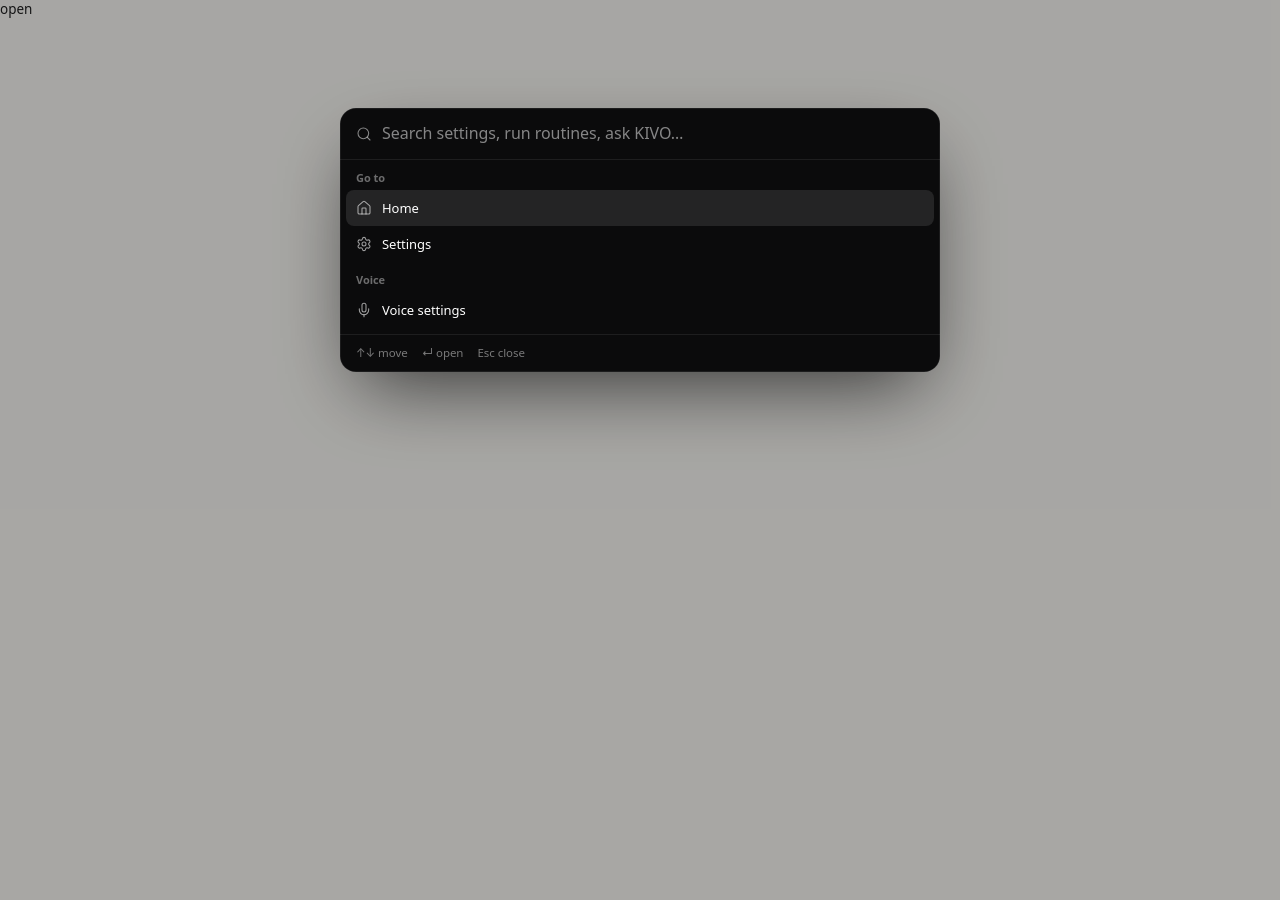
Test: CommandPalette › filters by label and shows each group header once
Step 1. Type "settings" into the dropdown → (653, 134), box [382, 122, 924, 145]
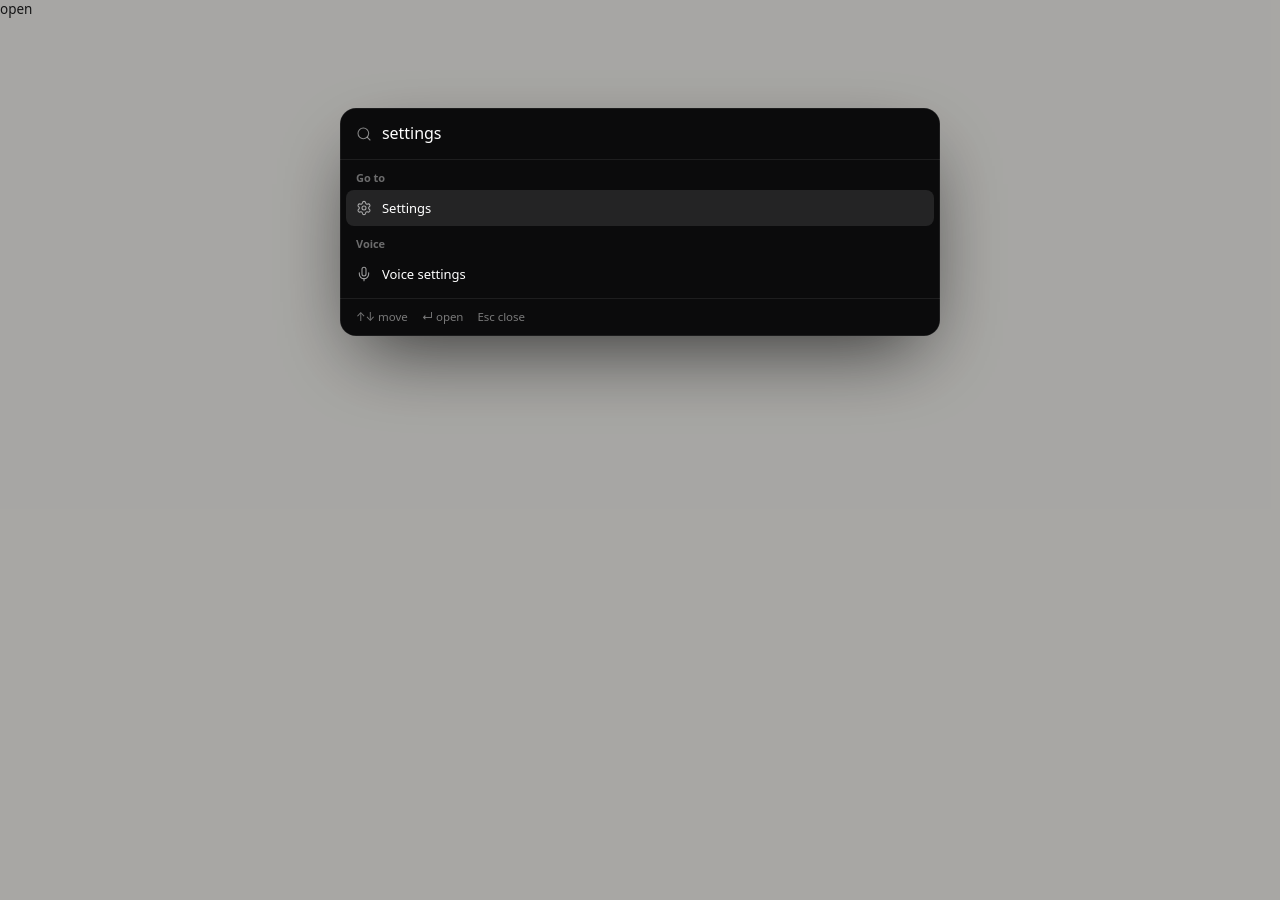
Expected: the text "Go to" is shown, [356, 170, 385, 185]
Now the options read "Settings", "Voice settings", in this order, box [346, 190, 934, 226]; [356, 265, 466, 283]
